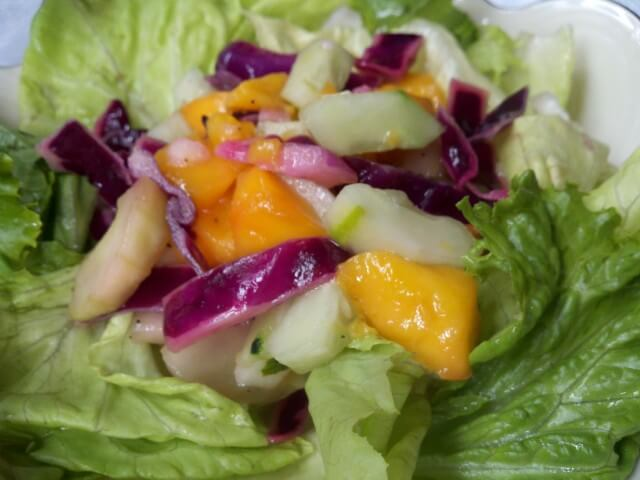chopped lettuce: (1, 126, 283, 472), (364, 197, 635, 479), (22, 2, 486, 111)
